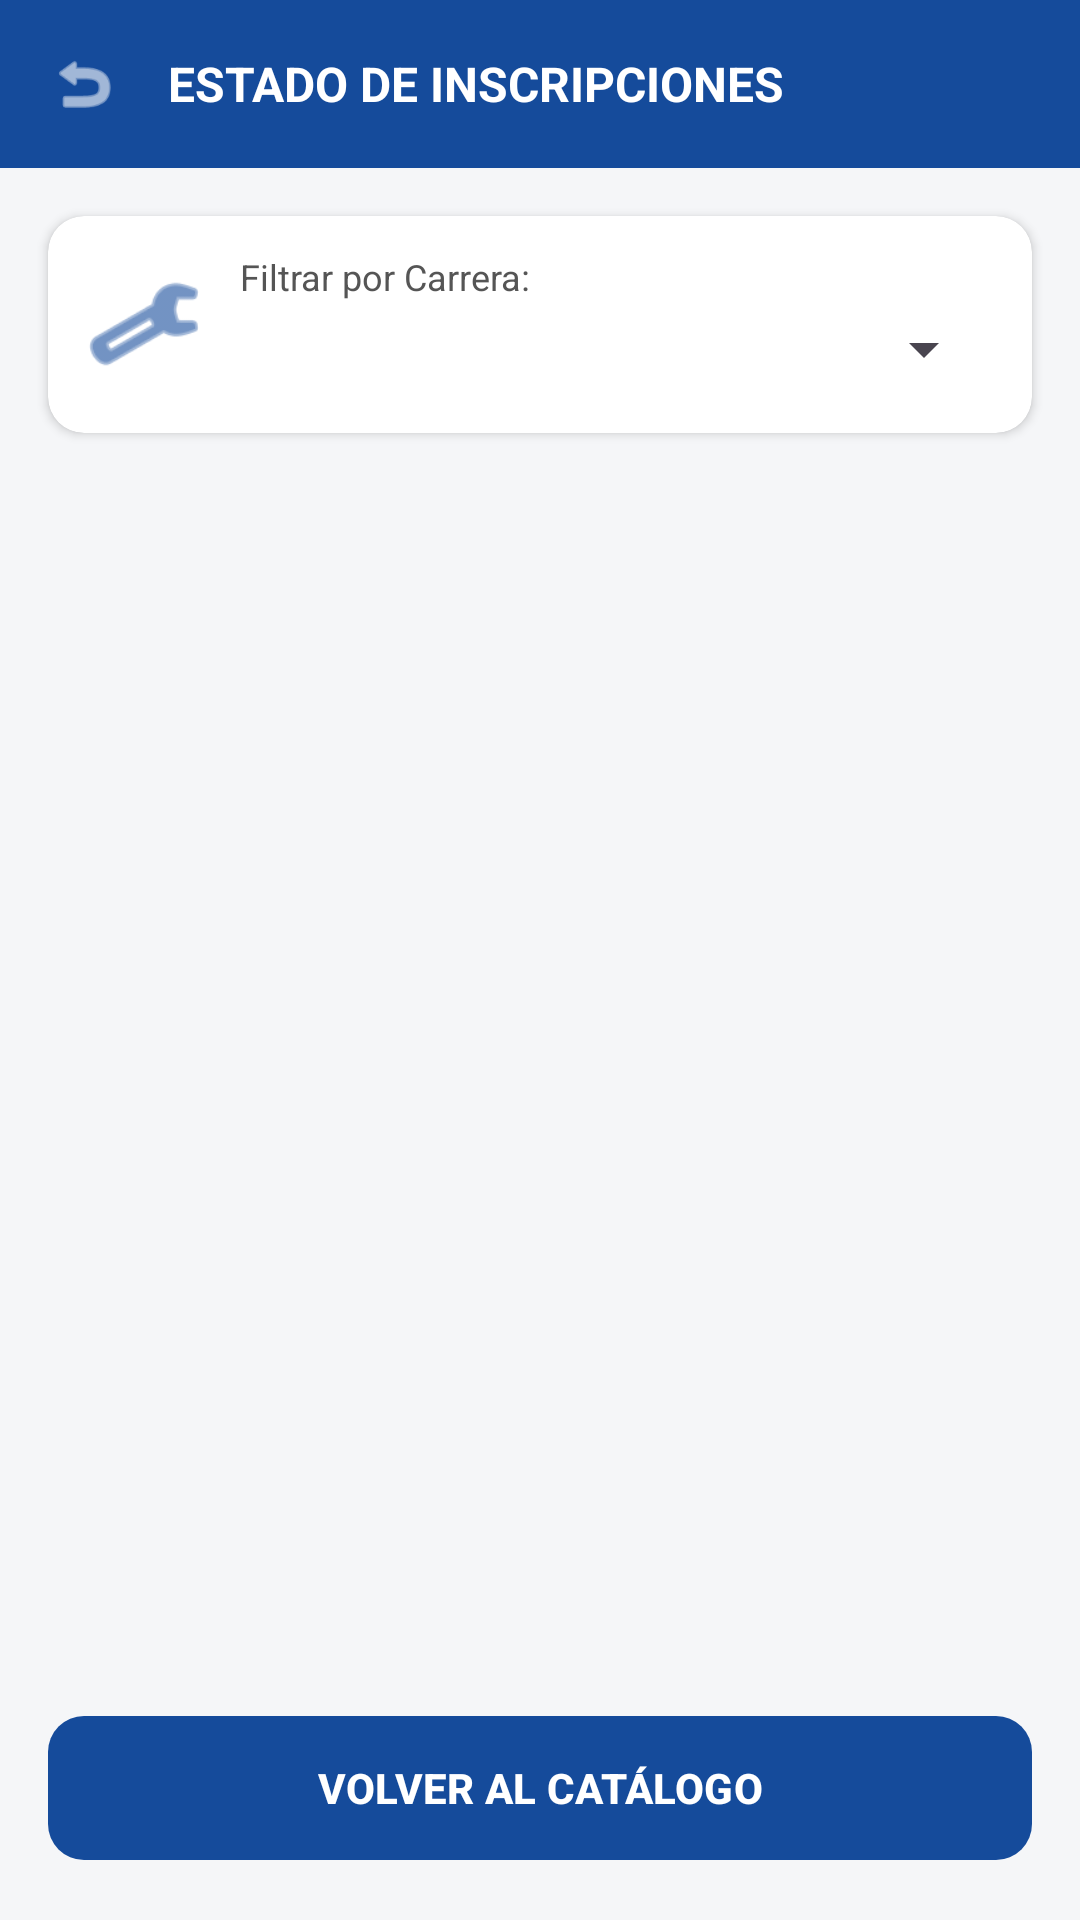

Named icons in this screenshot (1080 × 1920) and their centers, [x,y]:
manage: [144,324]
revert: [85,84]
